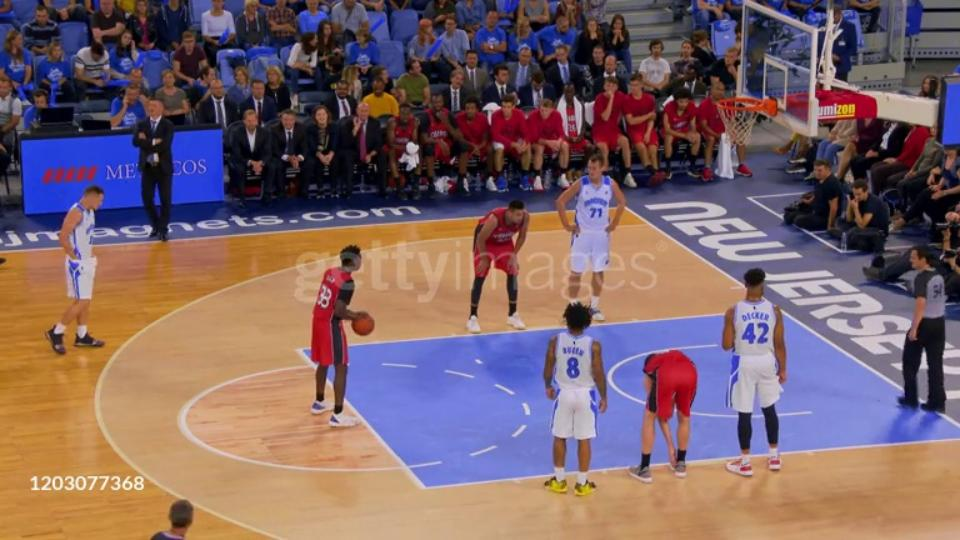hoop: (711, 92, 770, 115)
